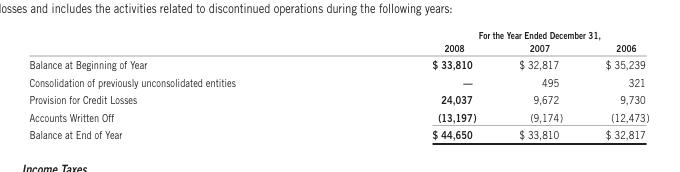table: (28, 28, 648, 140)
table column: (28, 28, 333, 140), (333, 28, 496, 140), (496, 28, 583, 140), (583, 28, 648, 140)
table column header: (28, 28, 648, 55)
table row: (28, 55, 648, 73), (28, 107, 648, 125), (28, 73, 648, 90), (28, 90, 648, 107), (28, 40, 648, 55), (28, 125, 648, 140), (28, 28, 648, 40)
table spanning cell: (333, 28, 648, 40)
